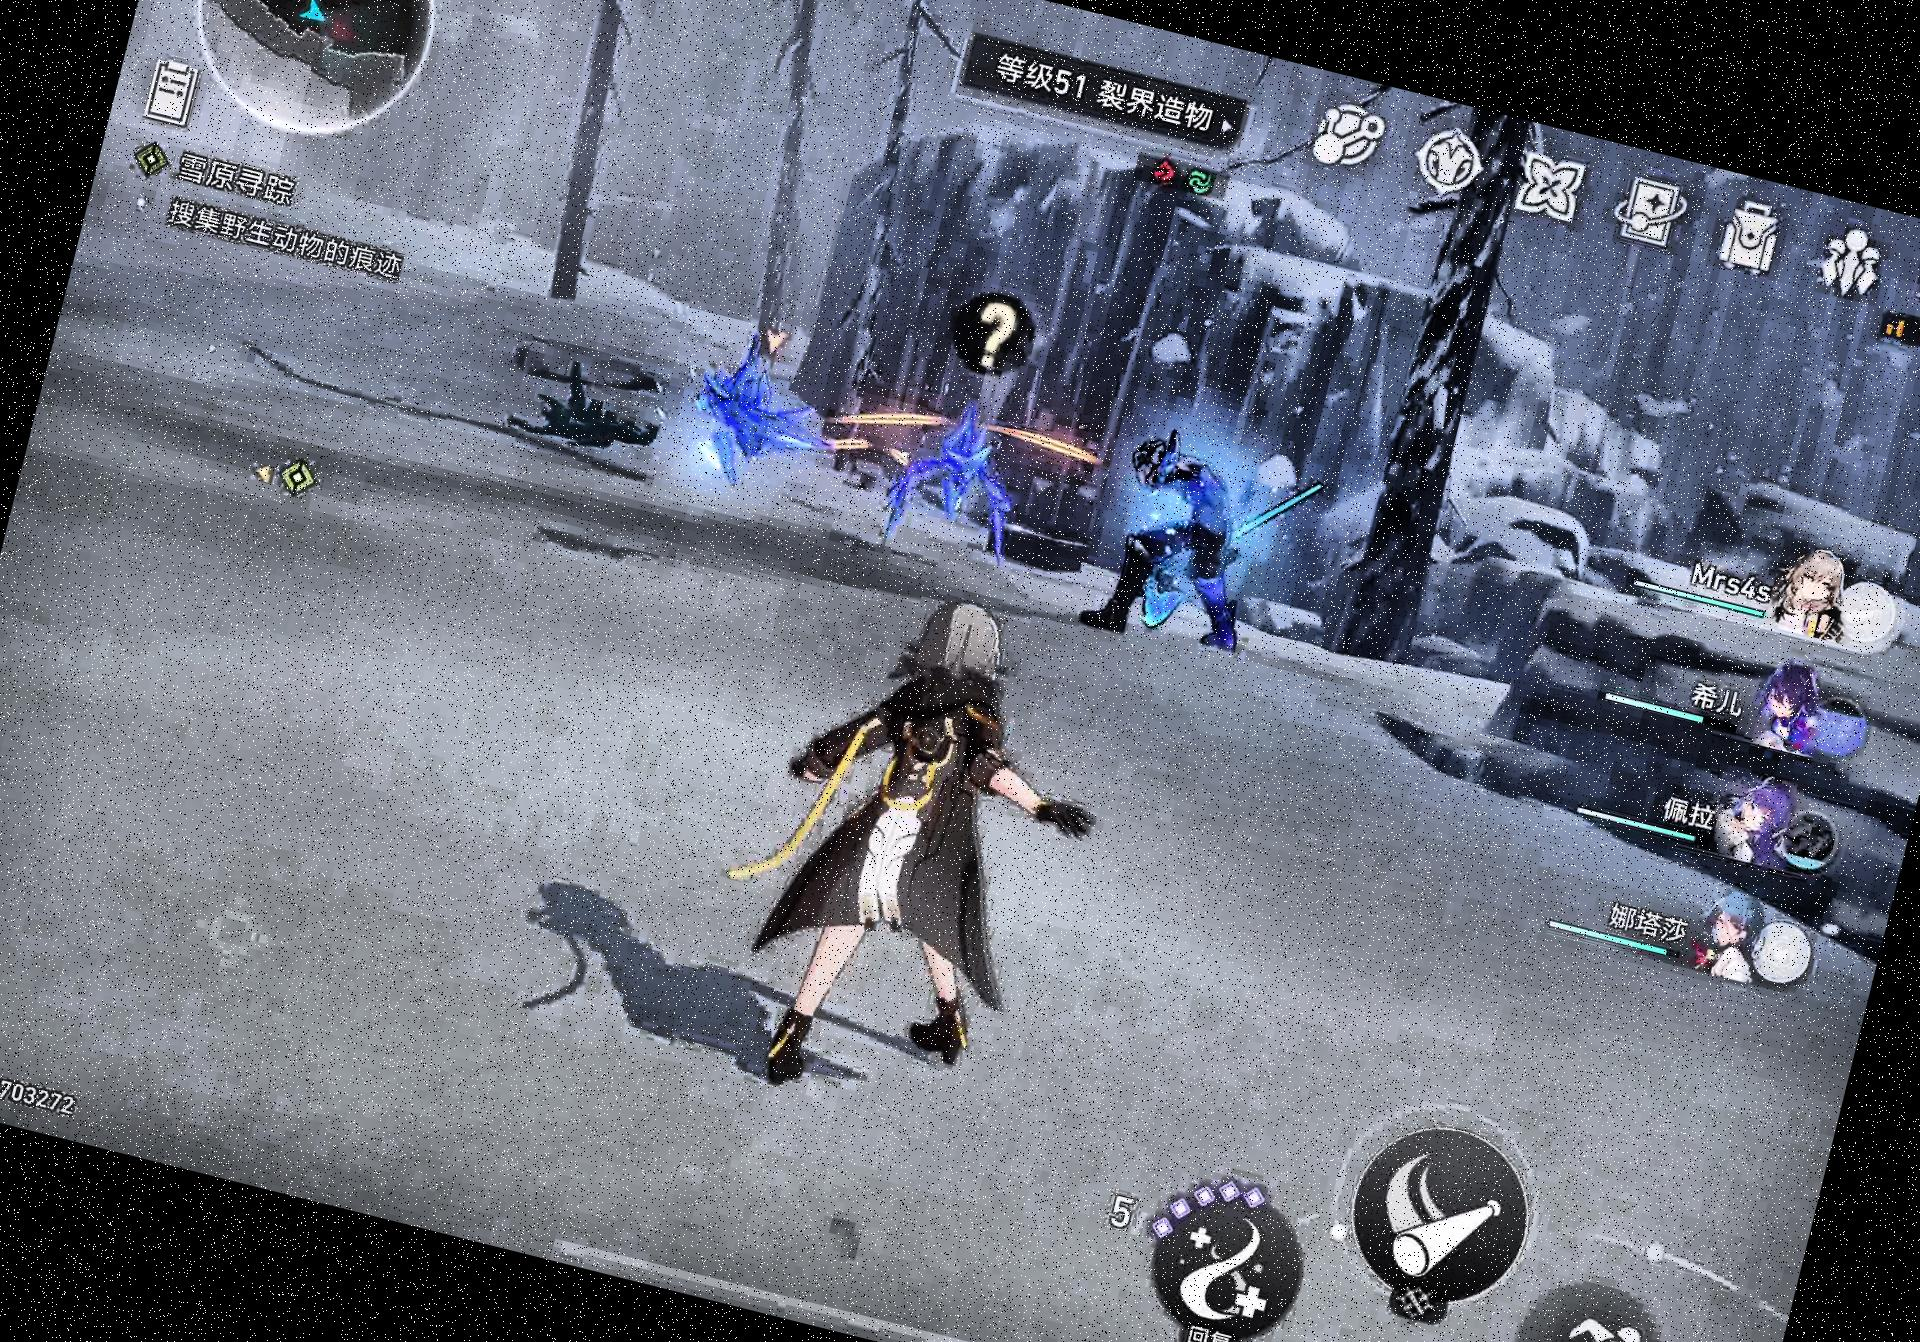Enemy: (1071, 424, 1300, 674), (659, 325, 842, 509), (868, 401, 1034, 582)
Self: (708, 581, 1132, 1145)
